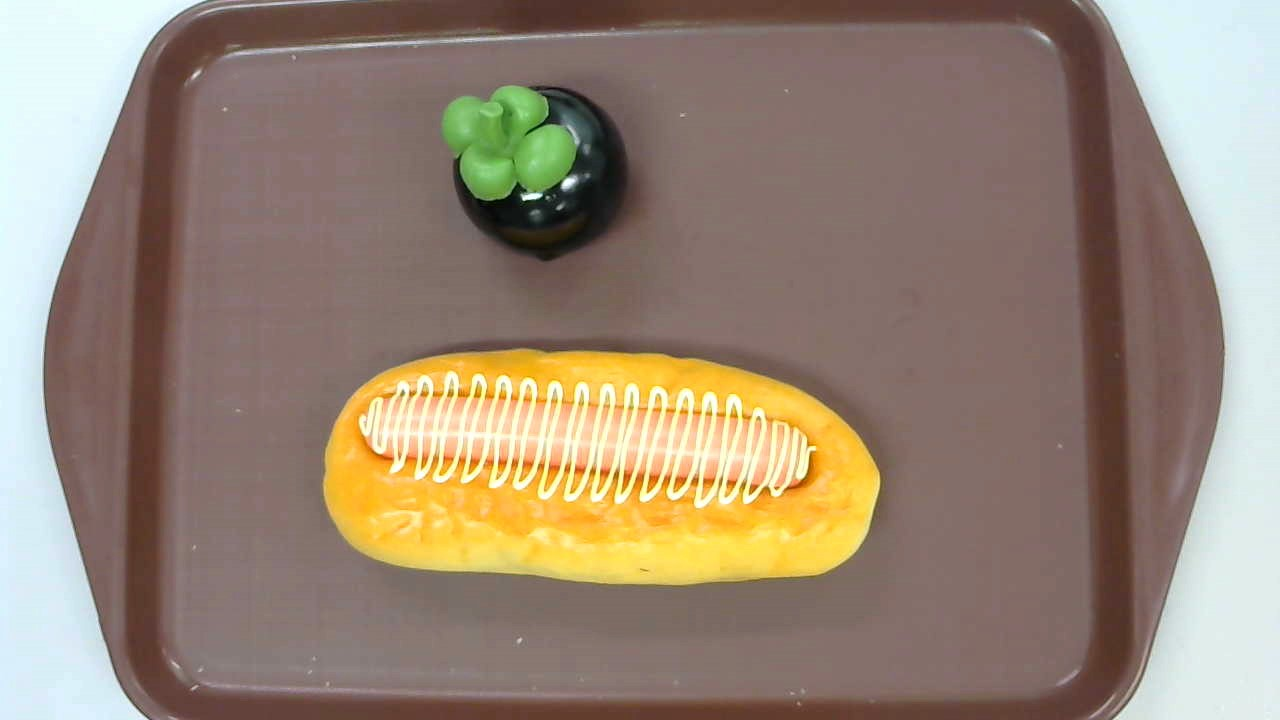hot dog: (323, 347, 881, 586)
mangosteen: (441, 85, 628, 263)
